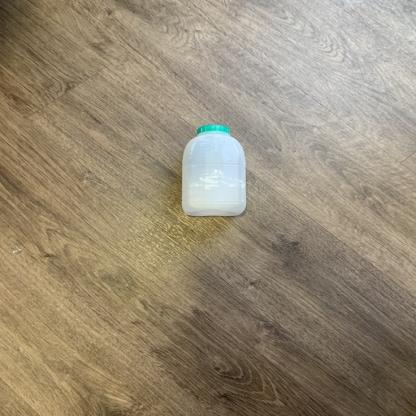trash: (180, 126, 251, 218)
